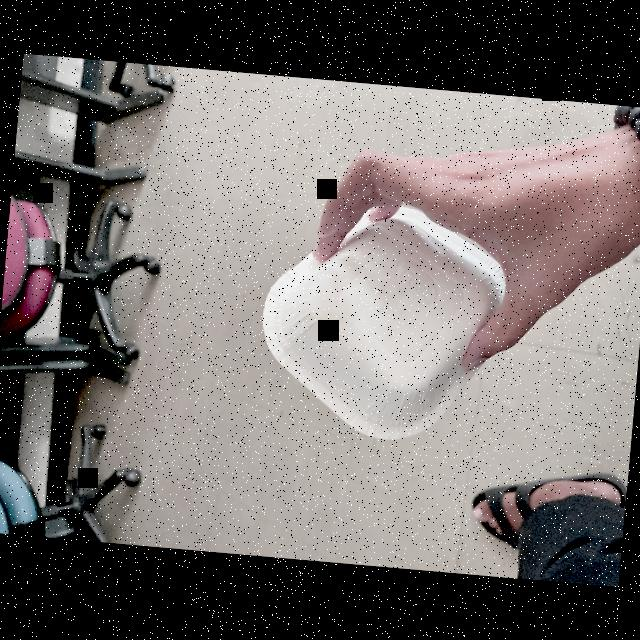cardboard_bowl: (239, 191, 513, 459)
